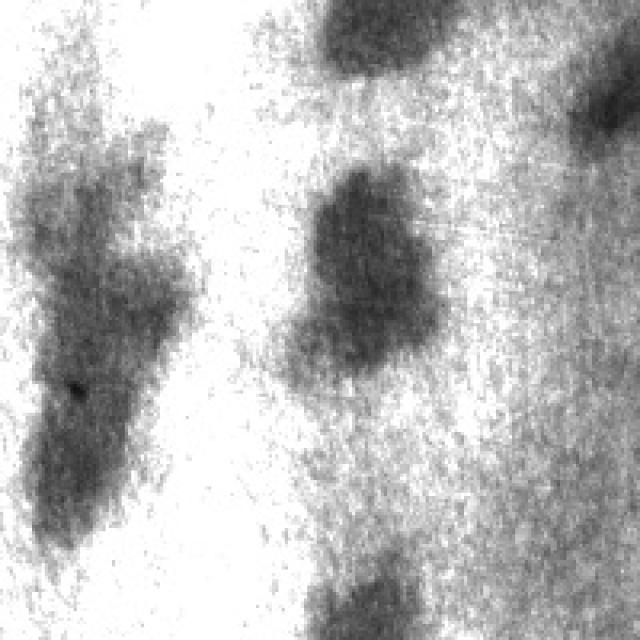patches: (22, 160, 189, 541), (304, 153, 454, 374), (301, 554, 432, 636), (323, 0, 477, 67), (566, 22, 640, 148)
